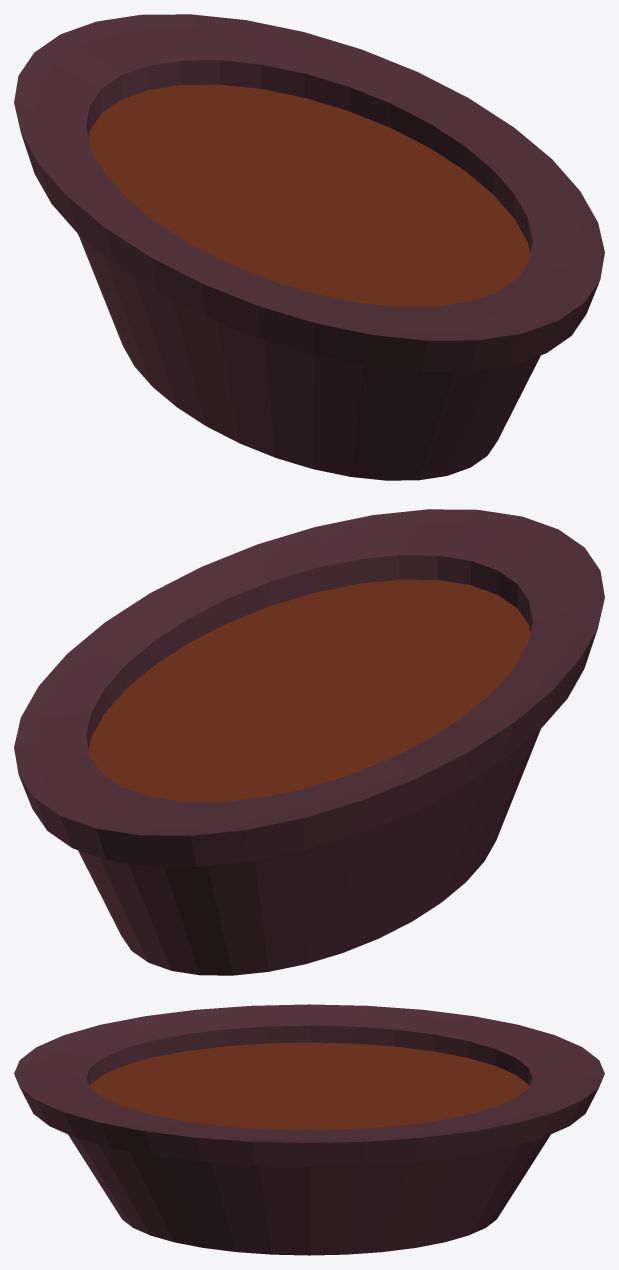
The model's file is Pot_2b_pot.fbx.
3 views of the same model, one above another, from view 1: azimuth 30°, elevation 25°; view 2: azimuth 150°, elevation 25°; view 3: azimuth 270°, elevation 25° (orthographic). The views are drawn at different scales.
Visible parts, largest first — view 1: Cylinder; view 2: Cylinder; view 3: Cylinder.
Boxes of the visible parts, x1,y1,x2,y2 form: Cylinder: [14, 14, 604, 480]; Cylinder: [14, 509, 604, 975]; Cylinder: [14, 1004, 604, 1255].
Size of the model in its own units: 104 by 47.79 by 187.
